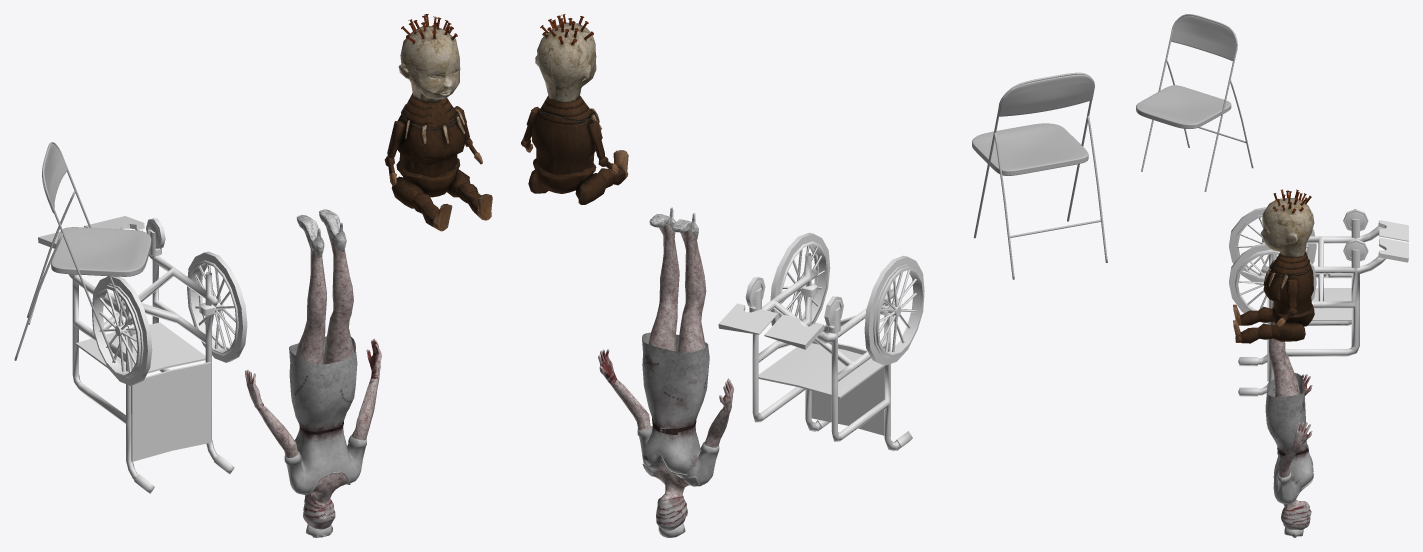
Rendered from PROPSS.fbx.
The picture shows the model from 3 angles, left to right: view 1: azimuth 30°, elevation 25°; view 2: azimuth 150°, elevation 25°; view 3: azimuth 270°, elevation 25°; orthographic projection. The views are drawn at different scales.
Visible parts, largest first — view 1: Seat, dress_lp, Object_2, Chair2; view 2: Seat, dress_lp, Object_2, Chair2; view 3: Seat, Object_2, dress_lp, Chair2.
Part boxes in pixels (x1=…): Seat: x1=38, y1=216, x2=247, y2=493; dress_lp: x1=245, y1=209, x2=381, y2=537; Object_2: x1=384, y1=14, x2=492, y2=231; Chair2: x1=14, y1=142, x2=151, y2=362; Seat: x1=718, y1=232, x2=924, y2=451; dress_lp: x1=598, y1=207, x2=733, y2=537; Object_2: x1=521, y1=14, x2=628, y2=204; Chair2: x1=972, y1=72, x2=1107, y2=279; Seat: x1=1229, y1=207, x2=1408, y2=396; Object_2: x1=1233, y1=189, x2=1314, y2=343; dress_lp: x1=1265, y1=301, x2=1313, y2=537; Chair2: x1=1136, y1=14, x2=1253, y2=191.
Size of the model in its own units: 3.01 by 2.75 by 1.73.
